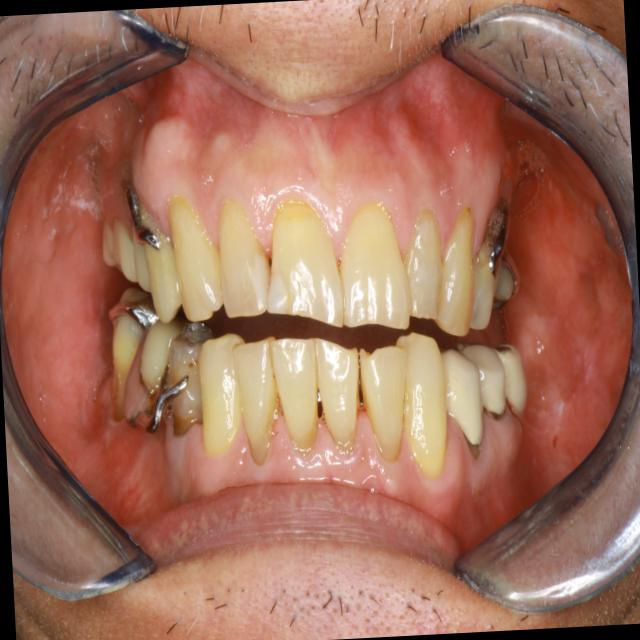tooth: (257, 195, 348, 338), (328, 193, 414, 336), (159, 181, 231, 328), (117, 305, 193, 438), (393, 326, 455, 486), (460, 183, 518, 340), (424, 194, 482, 343), (229, 326, 287, 473), (211, 192, 276, 323), (191, 325, 254, 459), (97, 278, 156, 418), (267, 330, 330, 461), (309, 329, 371, 456), (358, 341, 416, 473), (164, 314, 223, 441), (439, 343, 492, 468), (396, 199, 448, 326), (137, 197, 187, 329), (459, 338, 512, 427), (494, 336, 531, 424), (109, 211, 141, 290), (127, 216, 155, 299), (487, 247, 520, 315), (98, 211, 120, 269)
